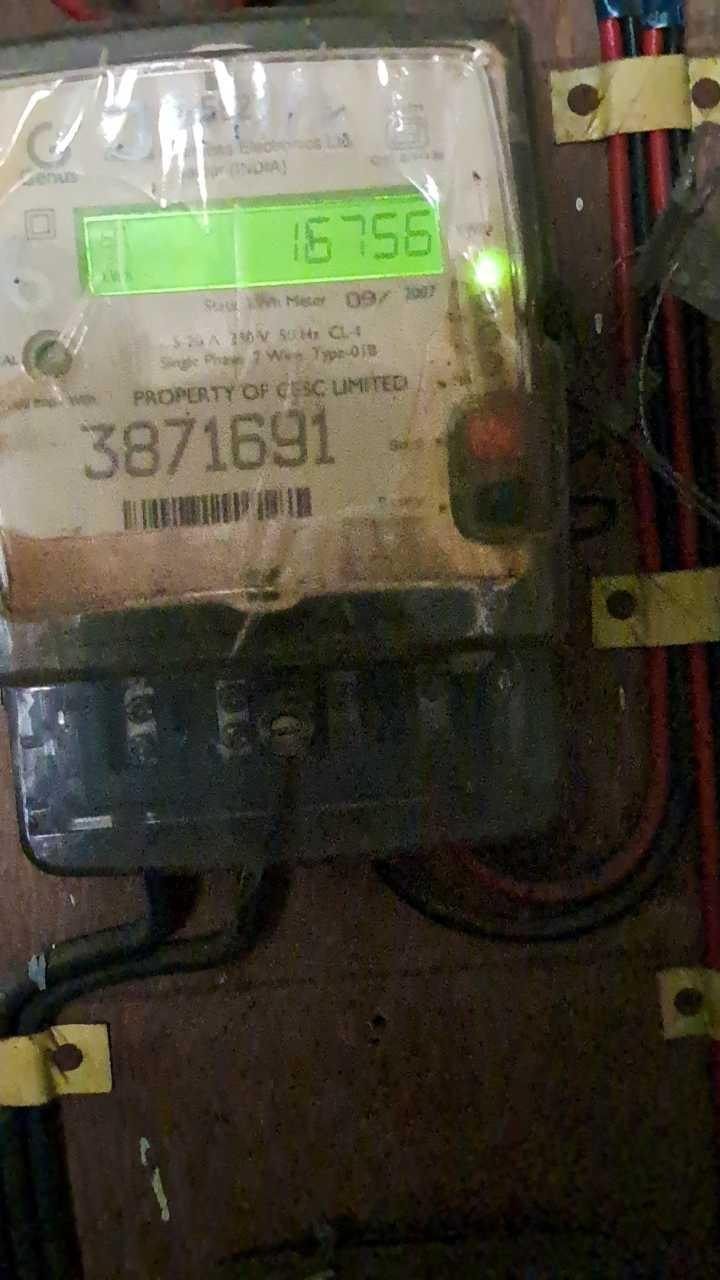meter_readings: (279, 207, 442, 267)
serial_number: (75, 409, 360, 480)
